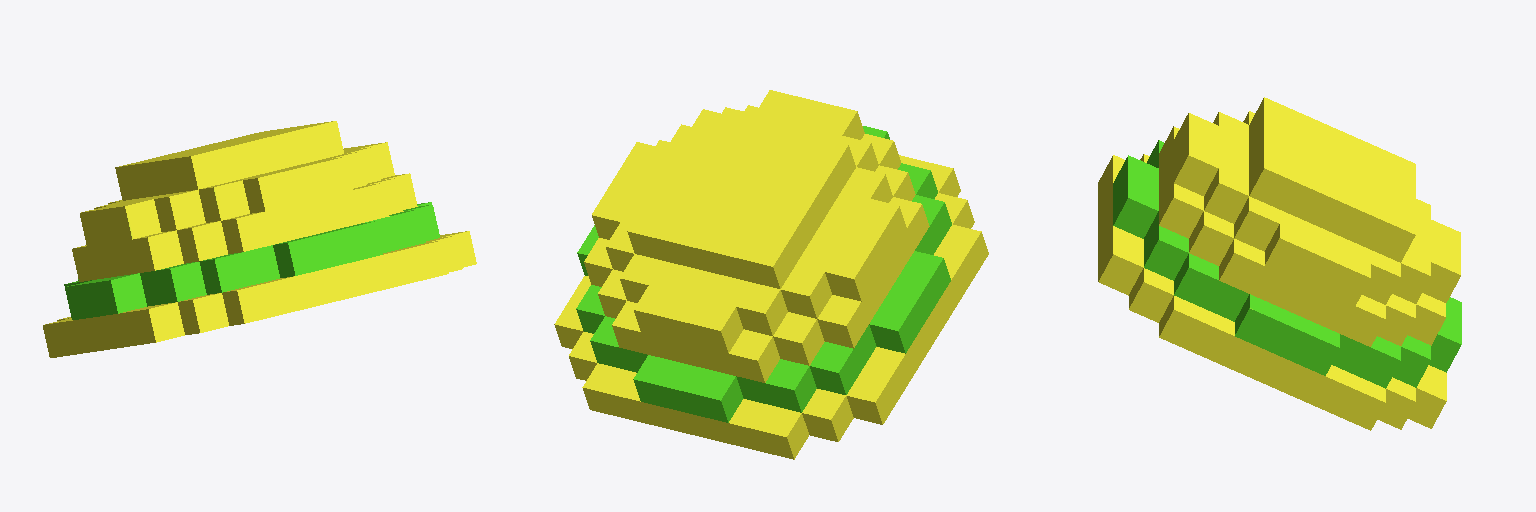
3 views of the same model, side by side, from view 1: azimuth 30°, elevation 25°; view 2: azimuth 150°, elevation 25°; view 3: azimuth 270°, elevation 25° (orthographic).
Parts seen in each view (by area): view 1: アクセサリ2(ぼうし); view 2: アクセサリ2(ぼうし); view 3: アクセサリ2(ぼうし).
Part boxes in pixels (x1,y1,x2,y2): アクセサリ2(ぼうし): (43,121,476,357); アクセサリ2(ぼうし): (554,90,988,459); アクセサリ2(ぼうし): (1098,97,1461,430).
Size of the model in its own units: 0.8224 by 0.604 by 0.8062.
Materials: 1 (1 with a texture image).